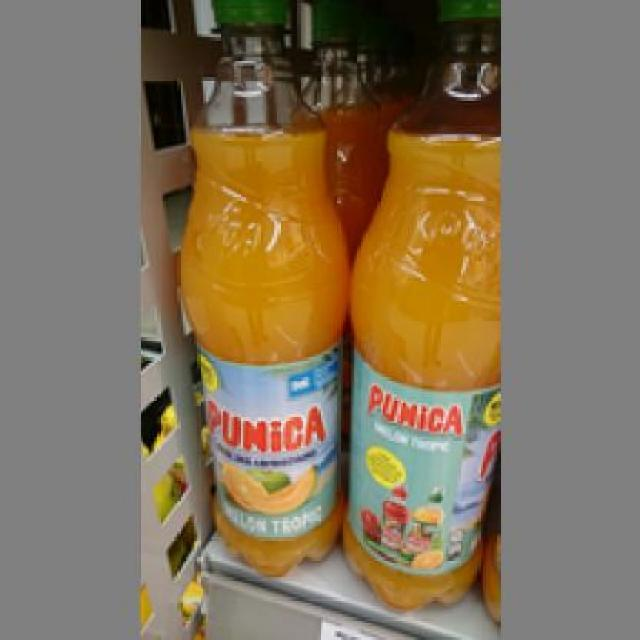Juice: (173, 2, 350, 572), (337, 2, 494, 612)
